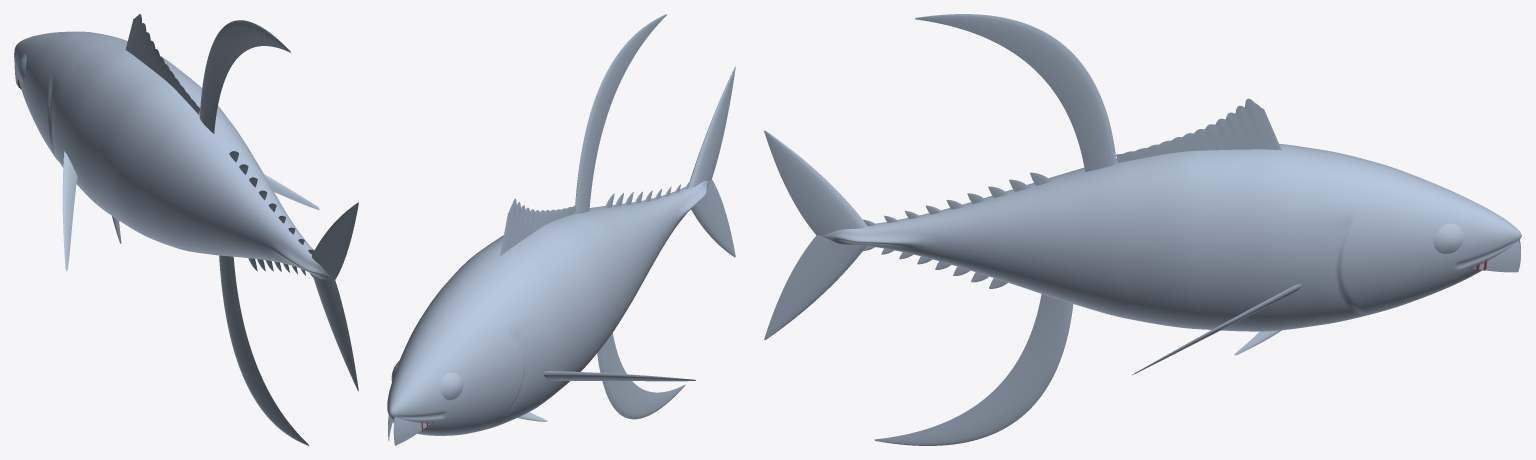
File: yellowfin_tuna.glb
3 renders of one model, left to right at view 1: azimuth 30°, elevation 25°; view 2: azimuth 150°, elevation 25°; view 3: azimuth 270°, elevation 25°, orthographic. The views are drawn at different scales.
Visible parts, largest first — view 1: yellowfin_tuna; view 2: yellowfin_tuna; view 3: yellowfin_tuna.
Boxes of the visible parts, x1,y1,x2,y2 form: yellowfin_tuna: (14,14,358,445); yellowfin_tuna: (387,14,735,445); yellowfin_tuna: (764,14,1521,445).
Bounding box in the file's own units: 0.6409 × 0.9426 × 1.5.
